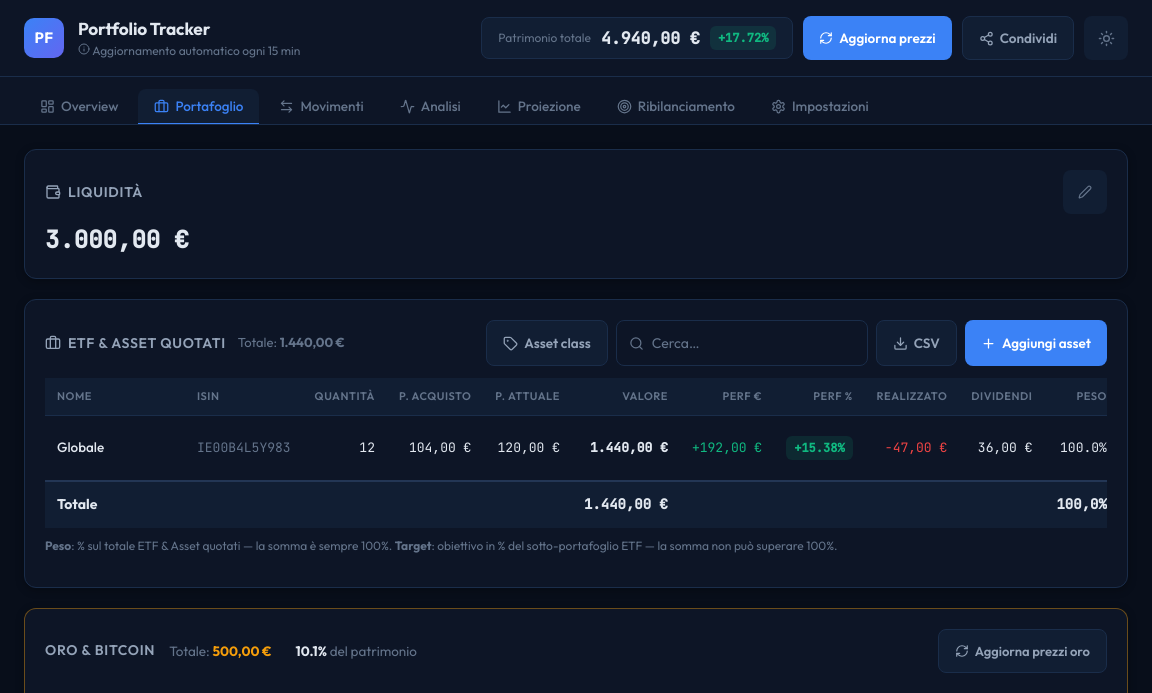
Test: Analisi segnala il mese mancante nella serie
Click the button "Analisi" at (430, 107), box [384,89,477,125]
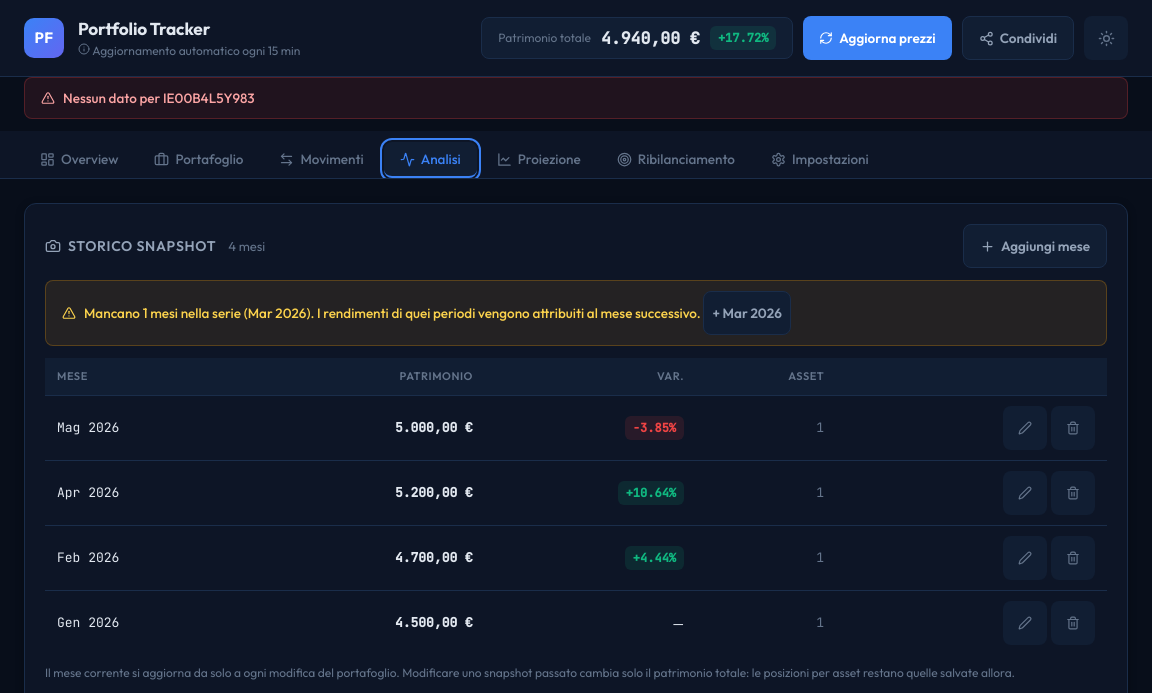
Check: the text "Mancano 1 mesi" is shown, box [84,291,795,335]
Check: the text "Mar 2026" is shown, box [248,304,306,322]
